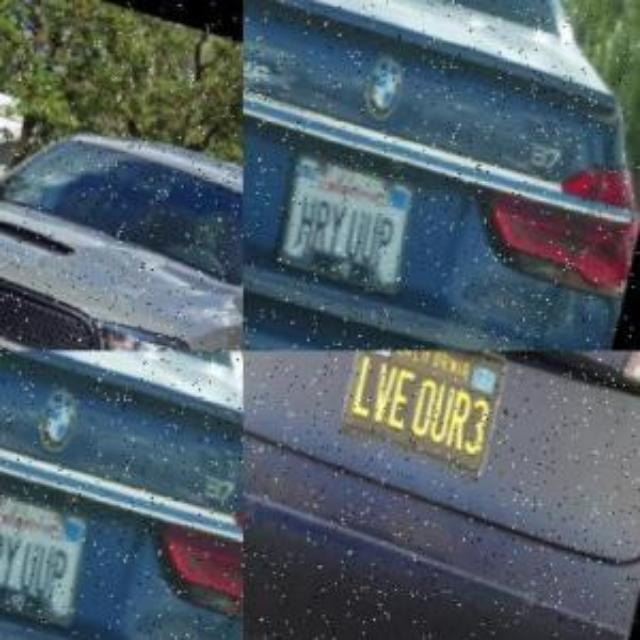License Plate: (332, 352, 514, 476), (274, 144, 418, 294), (0, 474, 91, 624)
